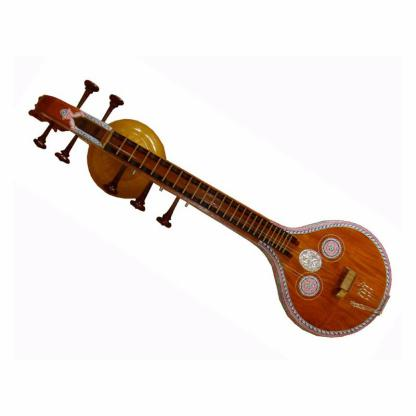Veena: (125, 153, 402, 344)
